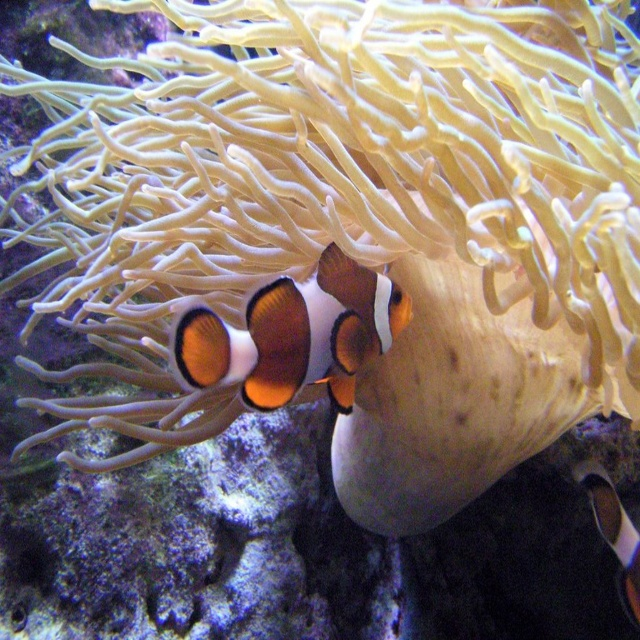Fish: (169, 241, 414, 416)
